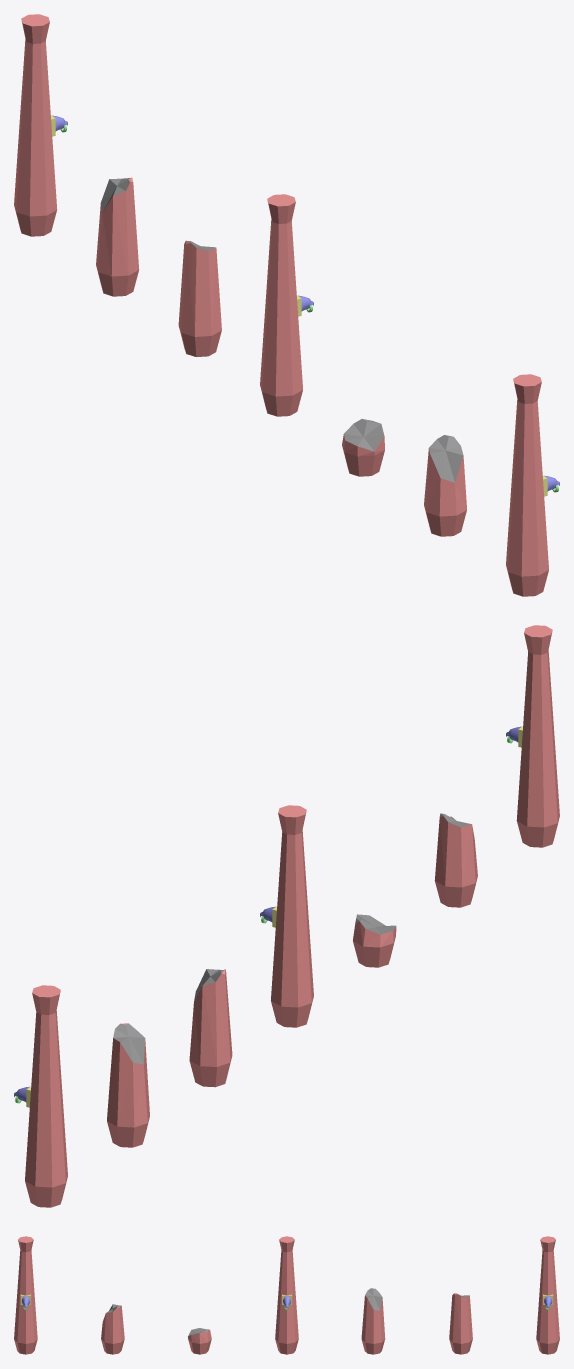
The model's file is SSQ_BRoom01_pillar02.gltf.
The picture shows the model from 3 angles, top to bottom: view 1: azimuth 30°, elevation 25°; view 2: azimuth 150°, elevation 25°; view 3: azimuth 270°, elevation 25°; orthographic projection. The views are drawn at different scales.
Parts seen in each view (by area): view 1: SSQ_BRoom01_pillar02; view 2: SSQ_BRoom01_pillar02; view 3: SSQ_BRoom01_pillar02.
Boxes of the visible parts, <box> form: SSQ_BRoom01_pillar02: <box>14,14,559,596</box>; SSQ_BRoom01_pillar02: <box>14,625,559,1207</box>; SSQ_BRoom01_pillar02: <box>14,1236,559,1354</box>.
Size of the model in its own units: 0.935 by 3.61 by 16.06.
